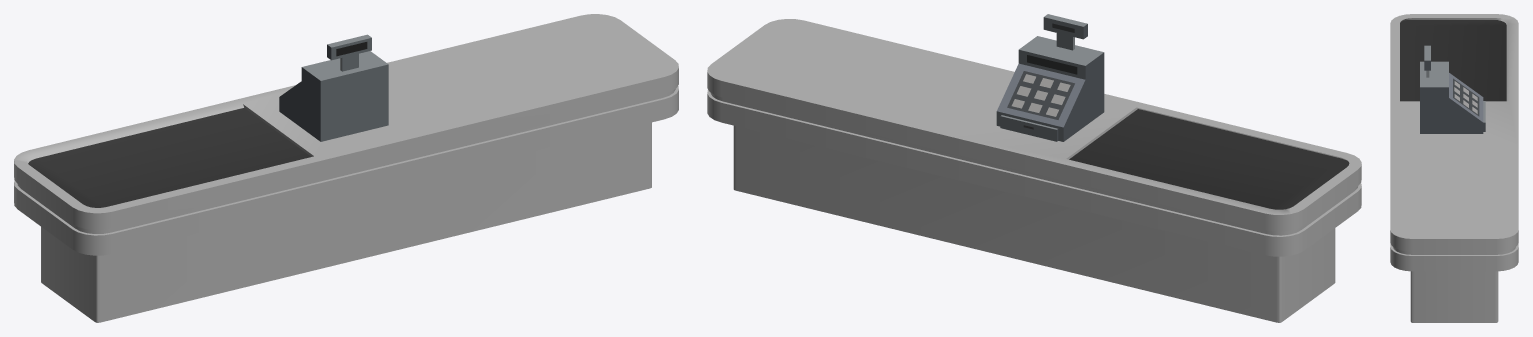
File: cashboxState.fbx
The picture shows the model from 3 angles, left to right: view 1: azimuth 30°, elevation 25°; view 2: azimuth 150°, elevation 25°; view 3: azimuth 270°, elevation 25°; orthographic projection. The views are drawn at different scales.
Visible parts, largest first — view 1: Cashbox, Register; view 2: Cashbox, Register; view 3: Cashbox, Register.
Part boxes in pixels (x1,y1,x2,y2): Cashbox: [14, 14, 678, 322]; Register: [279, 34, 388, 141]; Cashbox: [707, 19, 1361, 322]; Register: [996, 14, 1104, 141]; Cashbox: [1390, 14, 1518, 322]; Register: [1420, 45, 1485, 133].
Size of the model in its own units: 830 by 276 by 200.
